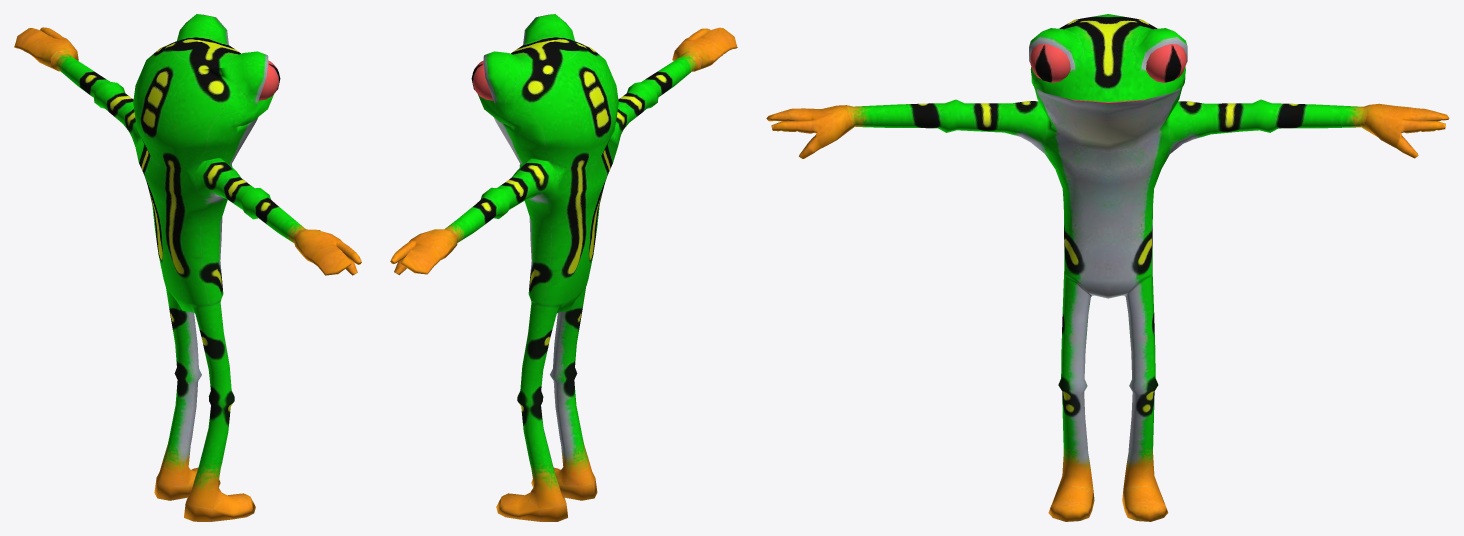
The model's file is Frog Man-optimized.glb.
3 renders of one model, left to right at view 1: azimuth 30°, elevation 25°; view 2: azimuth 150°, elevation 25°; view 3: azimuth 270°, elevation 25°, orthographic. The views are drawn at different scales.
Visible parts, largest first — view 1: mesh_char_104_1; view 2: mesh_char_104_1; view 3: mesh_char_104_1.
Part boxes in pixels (box(x1,y1,x2,y2)): mesh_char_104_1: box(14, 14, 361, 521); mesh_char_104_1: box(390, 14, 737, 521); mesh_char_104_1: box(766, 14, 1449, 521).
Size of the model in its own units: 1.08 by 3.95 by 5.02.
Materials: 1 (1 with a texture image).
